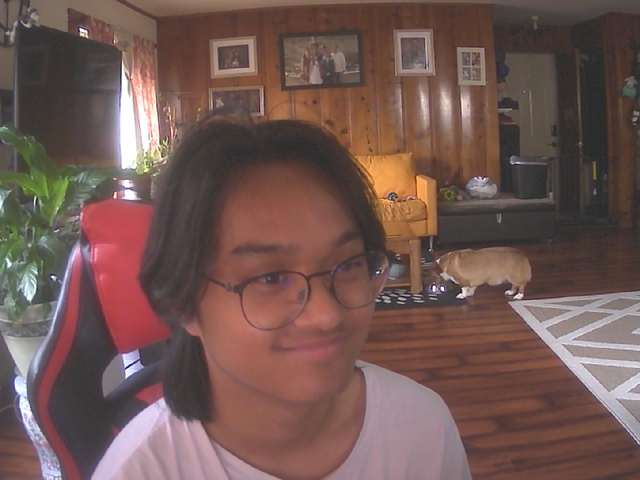happy: (162, 134, 395, 408)
